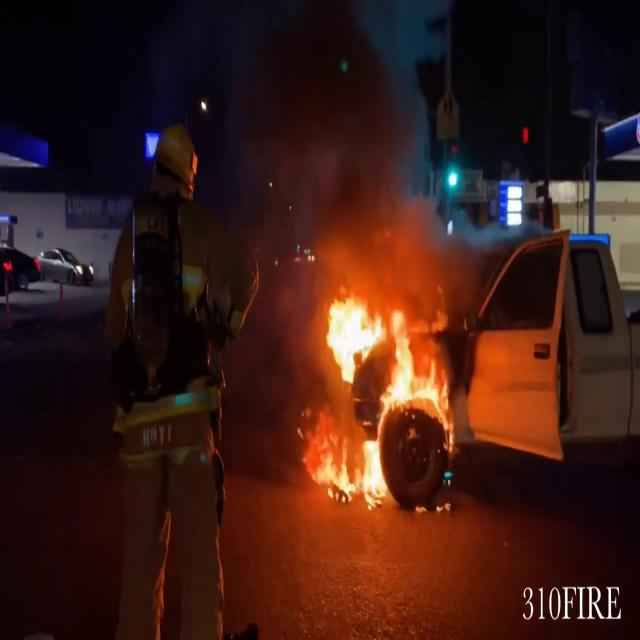Fire: (308, 281, 450, 509)
Smoke: (210, 0, 448, 294)
